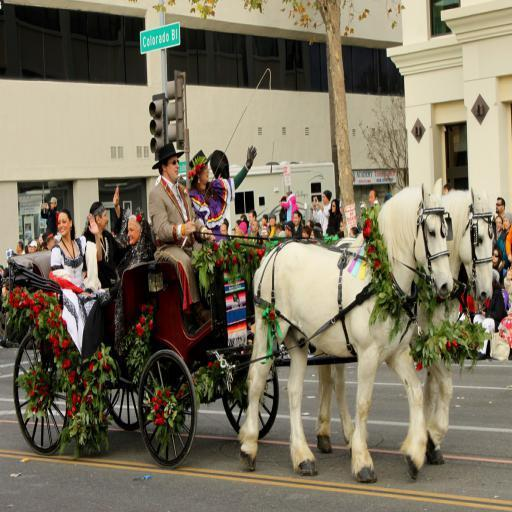horse: (236, 177, 454, 483), (309, 181, 494, 464)
